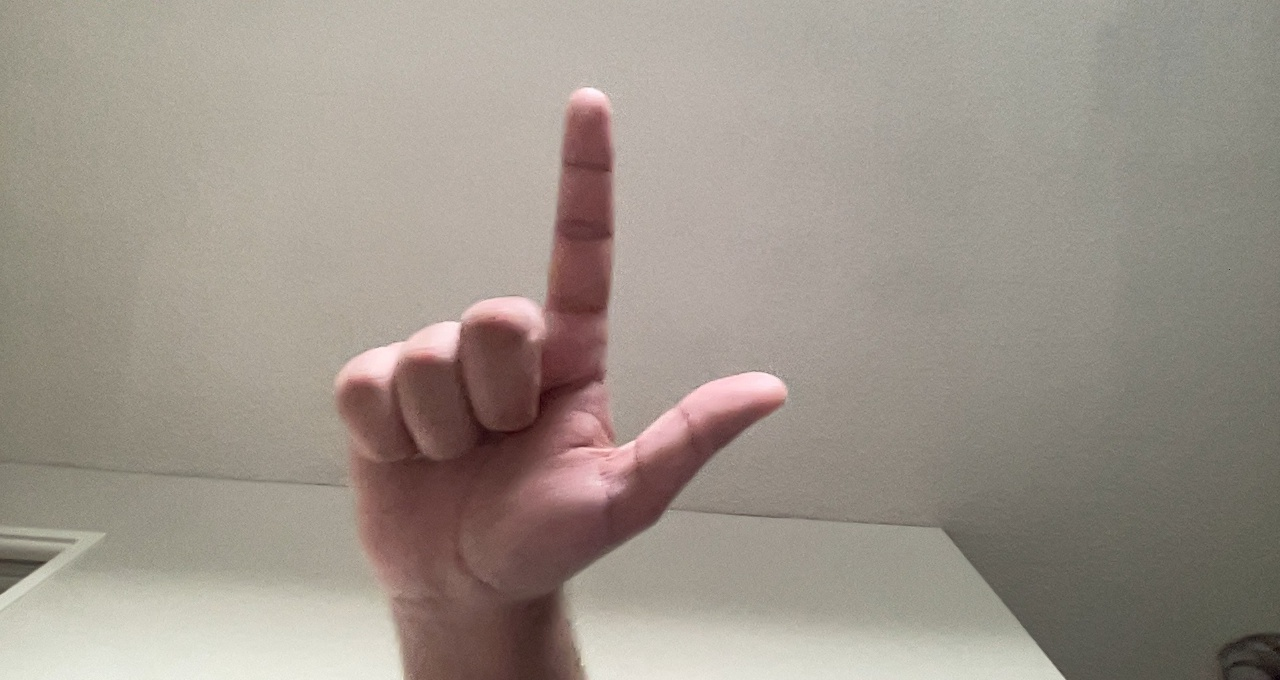L: (319, 73, 795, 649)
